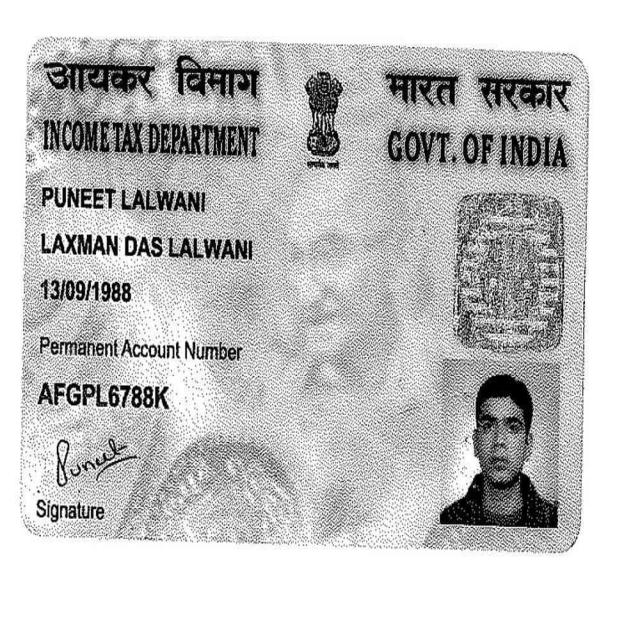pan_card: (31, 55, 573, 538)
